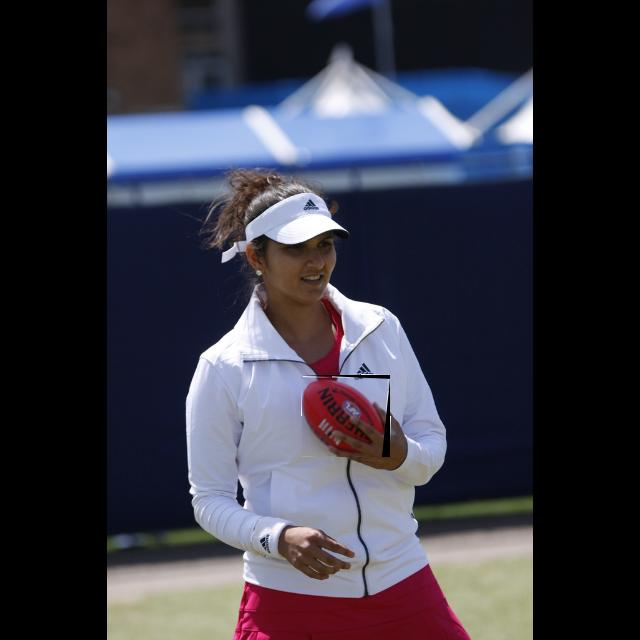Football: (302, 375, 390, 457)
